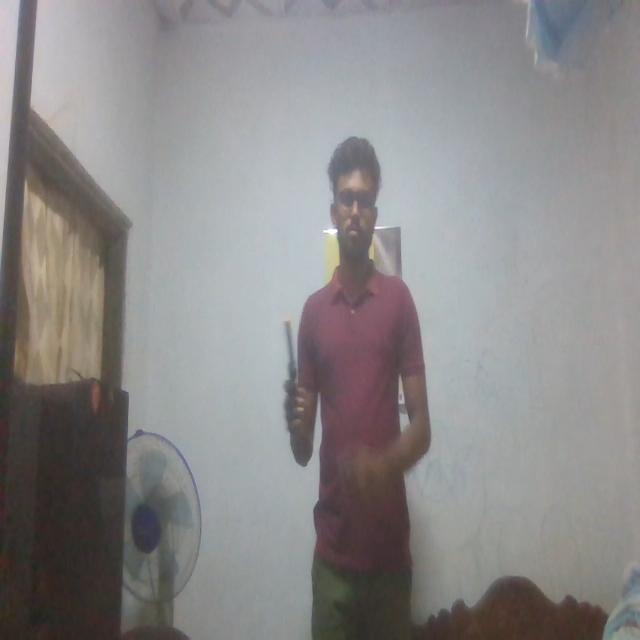Gun_Holder: (278, 307, 314, 445)
Person: (280, 135, 444, 640)
